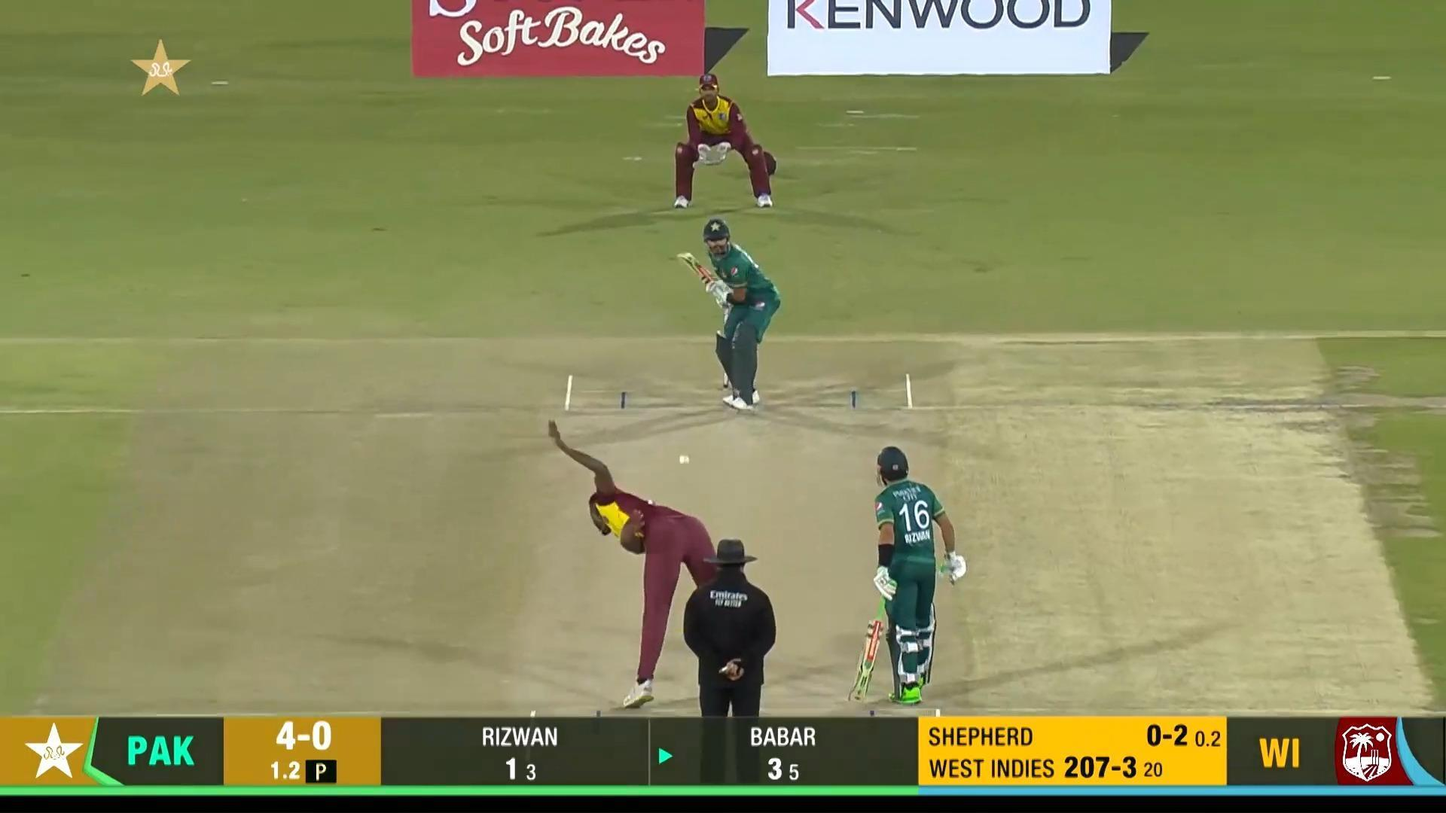BM 1: (677, 217, 781, 411)
BO: (547, 418, 749, 711)
